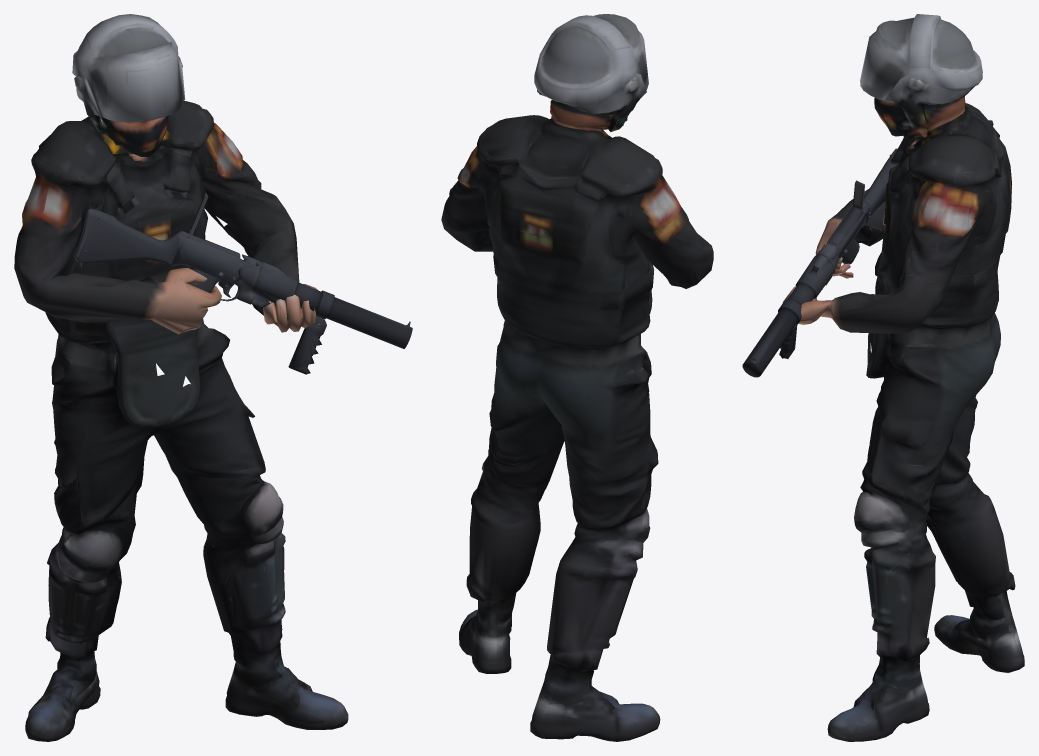
The model's file is brimob_gas_air_mata_idle.glb.
3 renders of one model, left to right at view 1: azimuth 30°, elevation 25°; view 2: azimuth 150°, elevation 25°; view 3: azimuth 270°, elevation 25°, orthographic. The views are drawn at different scales.
Visible parts, largest first — view 1: body; view 2: body; view 3: body.
Part boxes in pixels (x1,y1,x2,y2): body: [14, 14, 412, 741]; body: [441, 14, 713, 741]; body: [742, 14, 1024, 741].
Bounding box in the file's own units: 44.33 × 98.93 × 38.89.
Materials: 2 (2 with a texture image).
